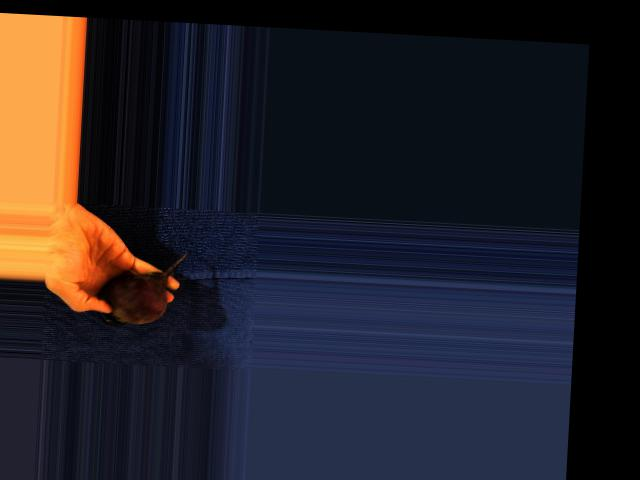beet: (97, 246, 188, 330)
